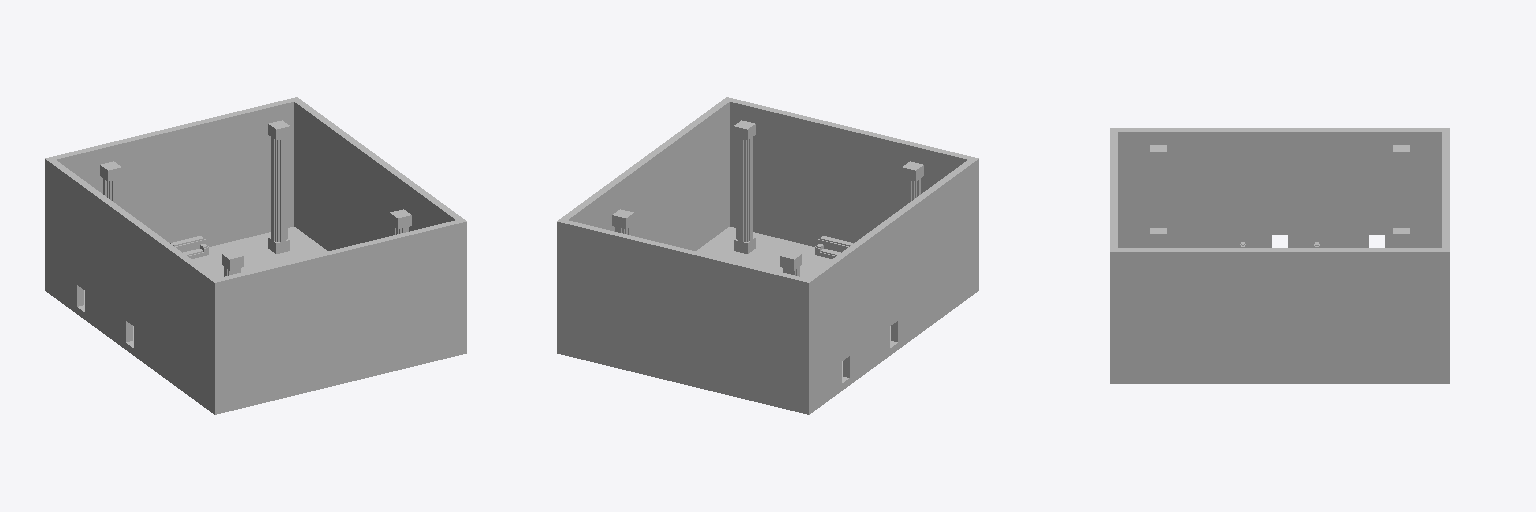
Rendered from lobby_roofless.obj.
3 views of the same model, side by side, from view 1: azimuth 30°, elevation 25°; view 2: azimuth 150°, elevation 25°; view 3: azimuth 270°, elevation 25° (orthographic).
Parts seen in each view (by area): view 1: object 1; view 2: object 1; view 3: object 1.
Boxes of the visible parts, box(x1,y1,x2,y2) form: object 1: box(45, 97, 466, 414); object 1: box(557, 97, 978, 414); object 1: box(1110, 128, 1449, 383).
Bounding box in the file's own units: 21.6 × 10.8 × 25.2.